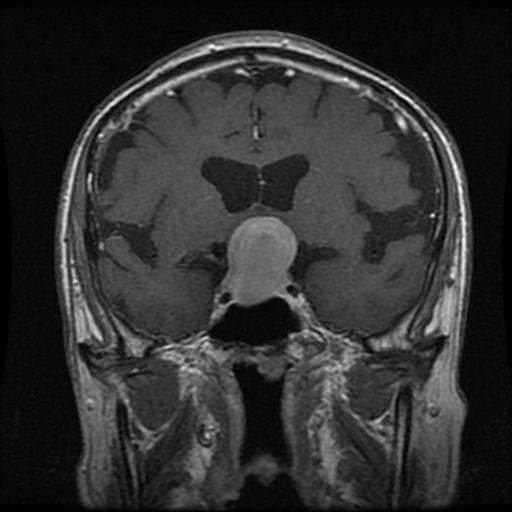Pituirity_tumour: (213, 216, 296, 304)
